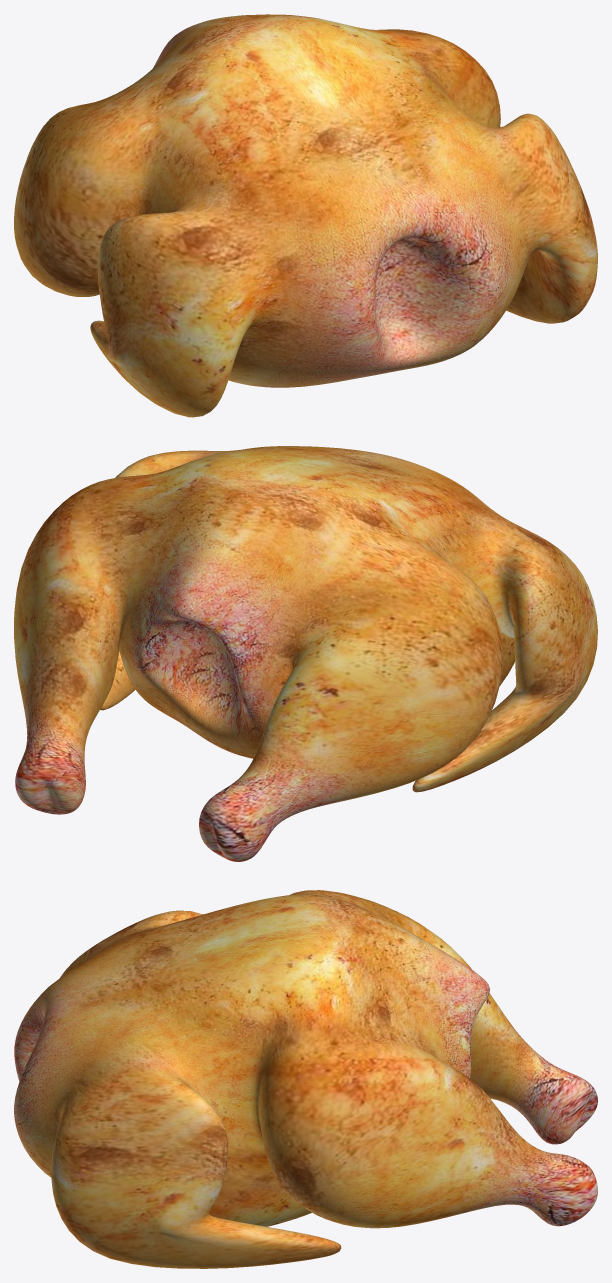
The model's file is chicken4.gltf.
3 renders of one model, top to bottom at view 1: azimuth 30°, elevation 25°; view 2: azimuth 150°, elevation 25°; view 3: azimuth 270°, elevation 25°, orthographic. The views are drawn at different scales.
Visible parts, largest first — view 1: 10864_rotisserie_chicken_v2_L3.001; view 2: 10864_rotisserie_chicken_v2_L3.001; view 3: 10864_rotisserie_chicken_v2_L3.001.
Boxes of the visible parts, <box> form: 10864_rotisserie_chicken_v2_L3.001: <box>14,14,597,417</box>; 10864_rotisserie_chicken_v2_L3.001: <box>14,446,597,861</box>; 10864_rotisserie_chicken_v2_L3.001: <box>14,890,597,1268</box>.
Bounding box in the file's own units: 0.4248 × 0.2468 × 0.4747.
Materials: 1 (1 with a texture image).
